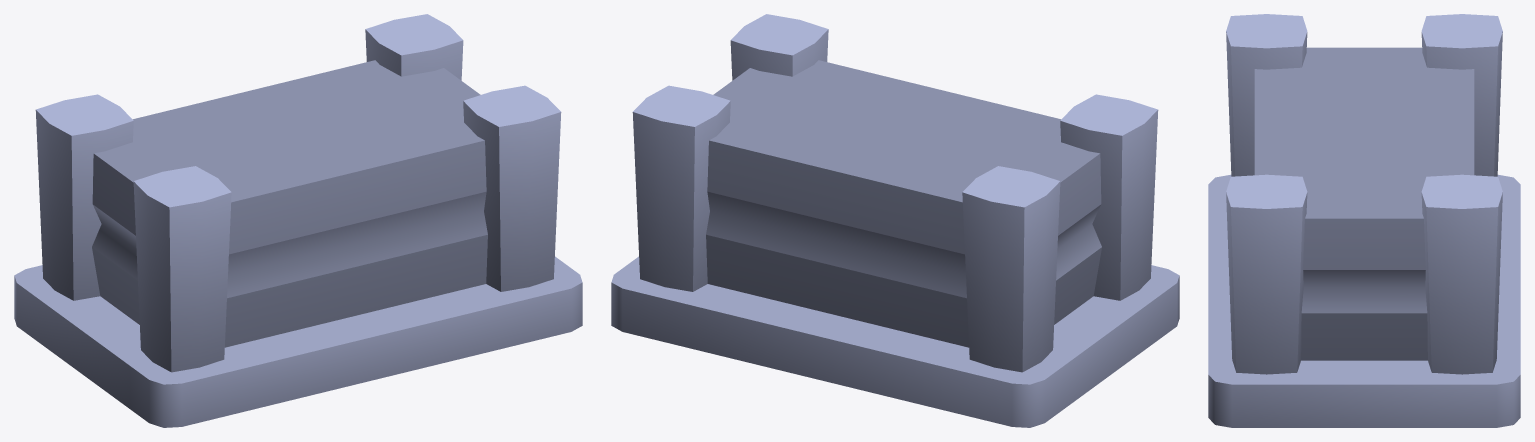
Rendered from altar-stone.glb.
3 renders of one model, left to right at view 1: azimuth 30°, elevation 25°; view 2: azimuth 150°, elevation 25°; view 3: azimuth 270°, elevation 25°, orthographic.
Visible parts, largest first — view 1: altar-stone; view 2: altar-stone; view 3: altar-stone.
Part boxes in pixels (bbox=[...]): altar-stone: bbox=[14, 14, 582, 427]; altar-stone: bbox=[611, 14, 1179, 427]; altar-stone: bbox=[1208, 14, 1520, 427].
Size of the model in its own units: 20.79 by 9.75 by 13.06.
1 material, 1 textured.
